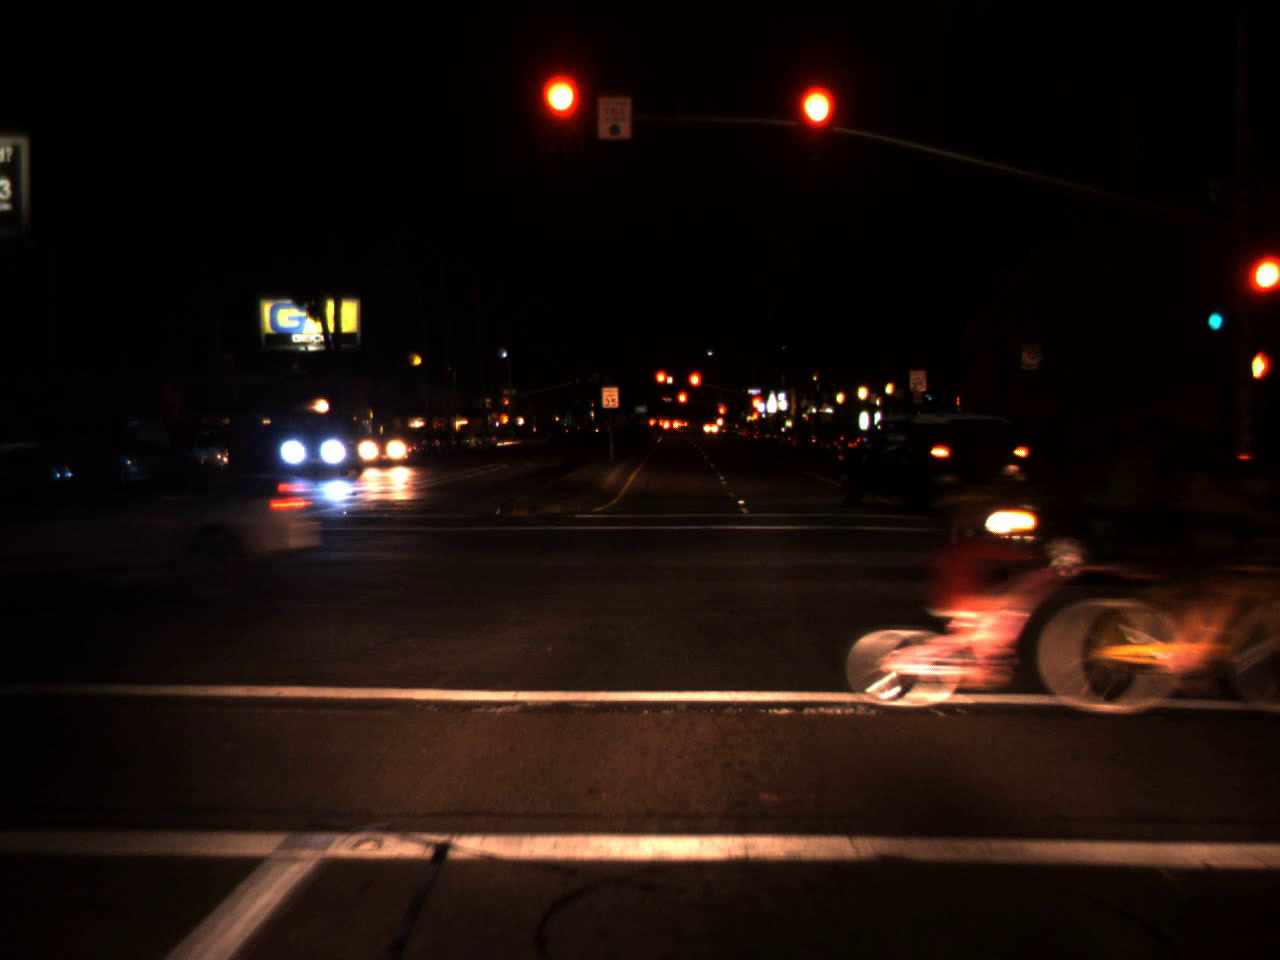stop: (541, 75, 580, 153), (798, 87, 834, 165), (1254, 260, 1279, 314), (686, 369, 702, 404), (653, 369, 671, 396), (747, 394, 762, 418), (677, 389, 689, 416), (717, 404, 727, 419), (503, 399, 509, 409)
